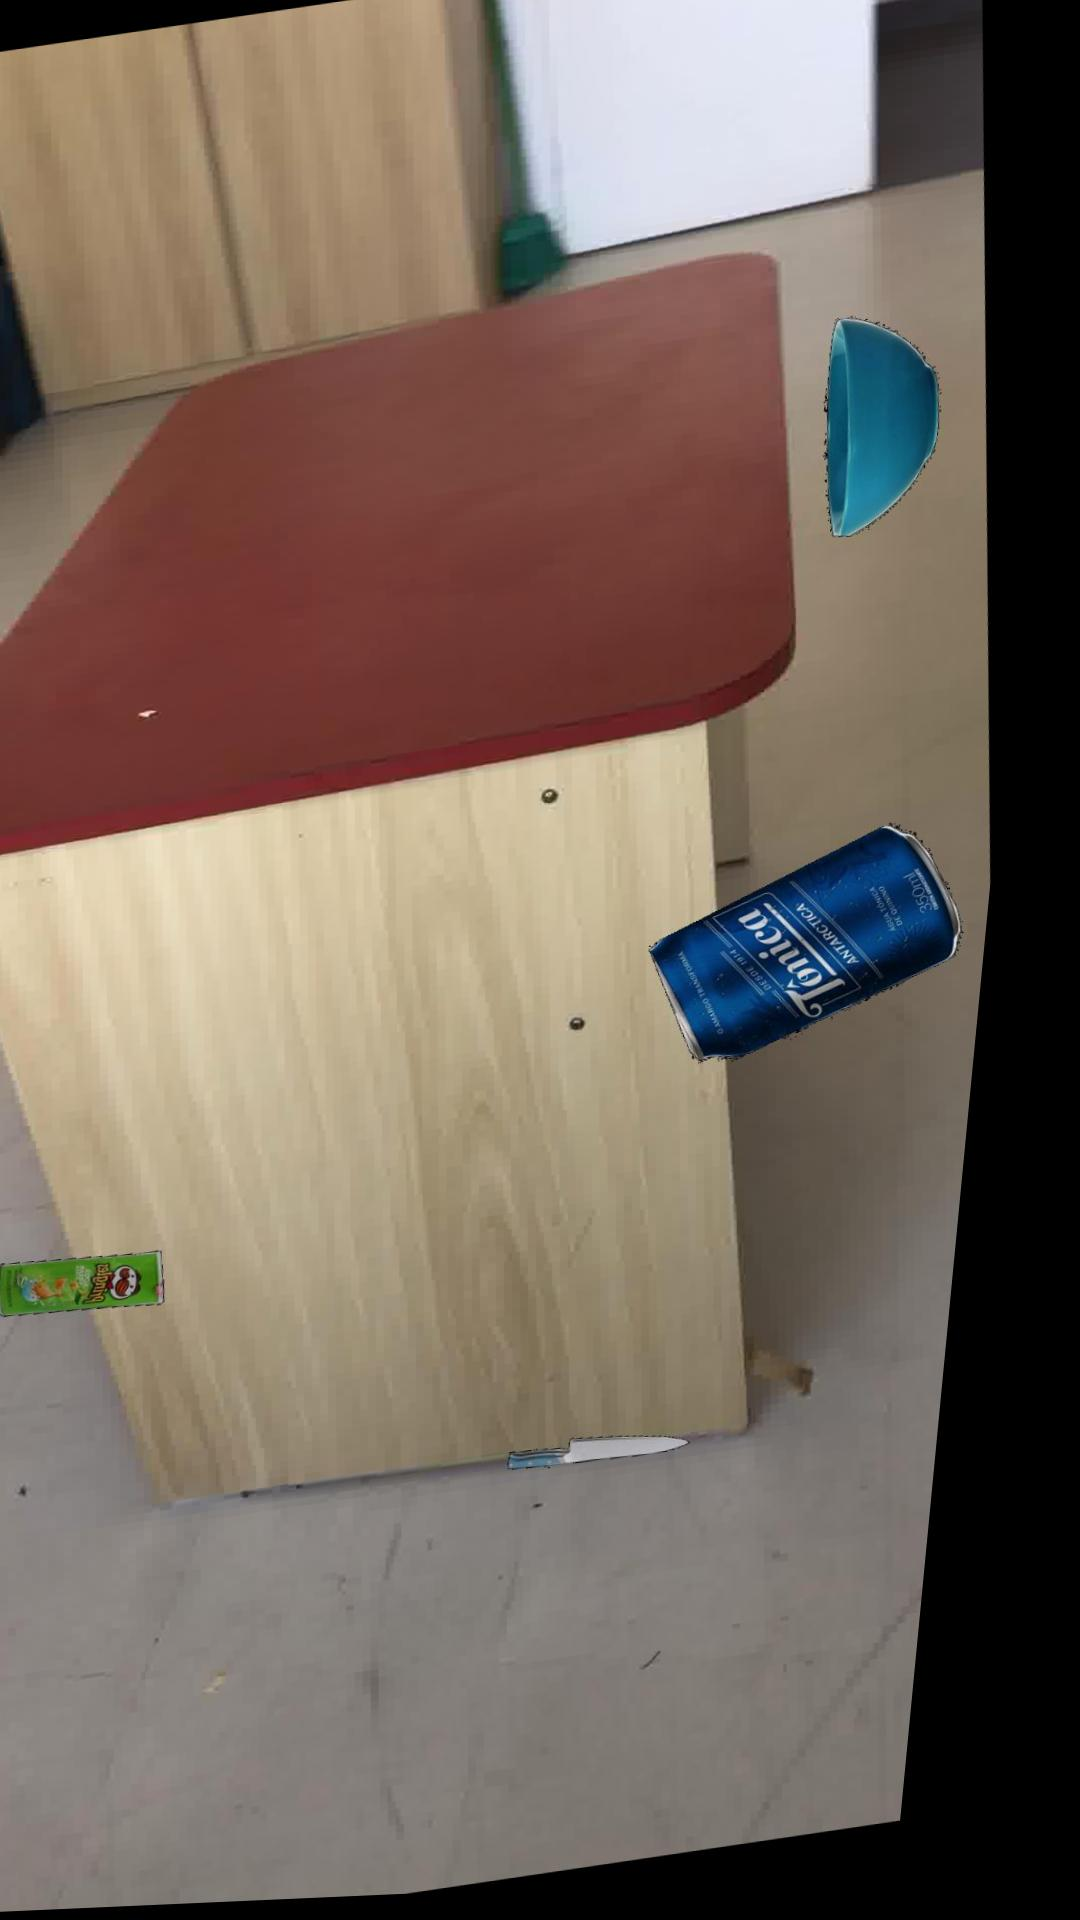bowl: (831, 324, 945, 543)
knife: (535, 1441, 717, 1474)
pringles: (21, 1251, 189, 1316)
tonic: (666, 829, 978, 1068)
